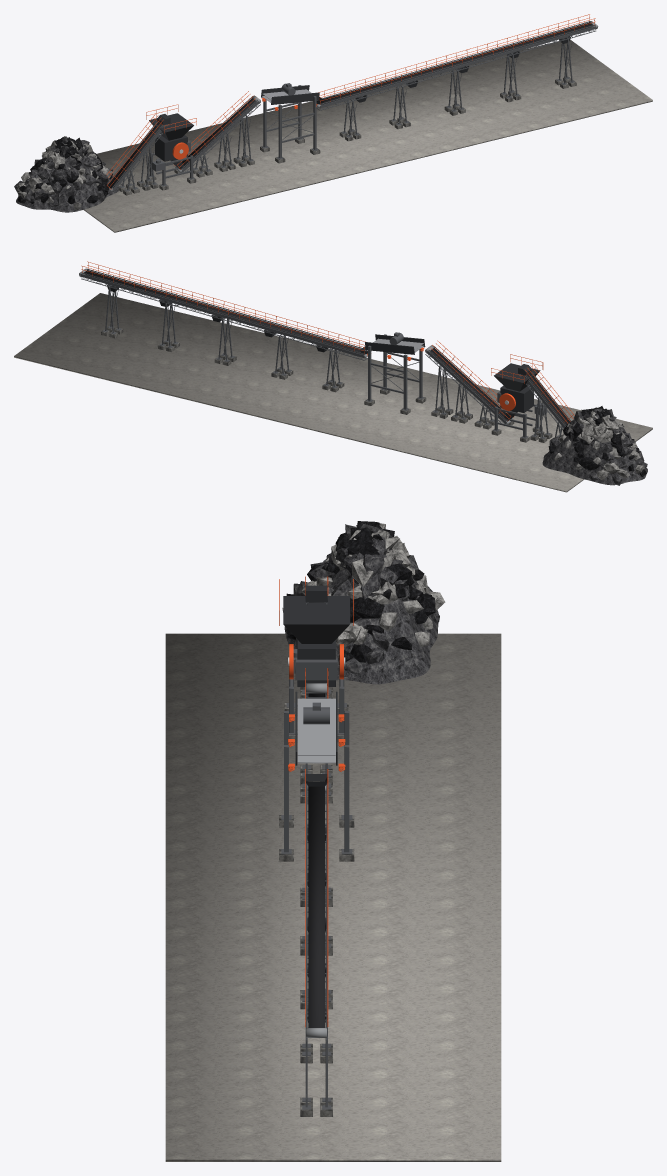
The model's file is om-group-wmm-source.glb.
3 views of the same model, one above another, from view 1: azimuth 30°, elevation 25°; view 2: azimuth 150°, elevation 25°; view 3: azimuth 270°, elevation 25° (orthographic). The views are drawn at different scales.
Parts seen in each view (by area): view 1: Ground, SteelWork, OrangeWork, BeltRubber, RockFace_Stones0, CharcoalWork, Footings, RockFace_Stones1, RockFace, RockFace_Stones2; view 2: Ground, SteelWork, OrangeWork, BeltRubber, CharcoalWork, RockFace, RockFace_Stones2, Footings, RockFace_Stones1, RockFace_Stones0; view 3: Ground, SteelWork, CharcoalWork, RockFace, BeltRubber, RockFace_Stones1, RockFace_Stones2, RockFace_Stones0, Footings, Decks, OrangeWork.
Boxes of the visible parts, x1,y1,x2,y2 form: Ground: [83, 39, 652, 232]; SteelWork: [107, 21, 595, 192]; OrangeWork: [106, 14, 595, 189]; BeltRubber: [108, 22, 593, 188]; RockFace_Stones0: [14, 136, 112, 206]; CharcoalWork: [149, 36, 570, 167]; Footings: [118, 77, 576, 195]; RockFace_Stones1: [17, 137, 112, 203]; RockFace: [16, 155, 118, 212]; RockFace_Stones2: [17, 136, 113, 210]; Ground: [14, 293, 652, 492]; SteelWork: [81, 268, 570, 438]; OrangeWork: [81, 261, 574, 423]; BeltRubber: [84, 270, 569, 425]; CharcoalWork: [107, 284, 540, 419]; RockFace: [542, 433, 647, 485]; RockFace_Stones2: [554, 407, 644, 480]; Footings: [101, 326, 557, 442]; RockFace_Stones1: [548, 406, 646, 476]; RockFace_Stones0: [549, 408, 647, 485]; Ground: [165, 633, 501, 1161]; SteelWork: [281, 602, 352, 1109]; CharcoalWork: [283, 585, 350, 1022]; RockFace: [284, 570, 438, 684]; BeltRubber: [308, 602, 324, 1027]; RockFace_Stones1: [286, 521, 435, 664]; RockFace_Stones2: [282, 523, 445, 646]; RockFace_Stones0: [293, 523, 439, 674]; Footings: [279, 687, 354, 1116]; Decks: [297, 698, 335, 763]; OrangeWork: [279, 576, 353, 1027].
Size of the model in its own units: 80.12 by 9.23 by 20.
Materials: 13 (5 with a texture image).
